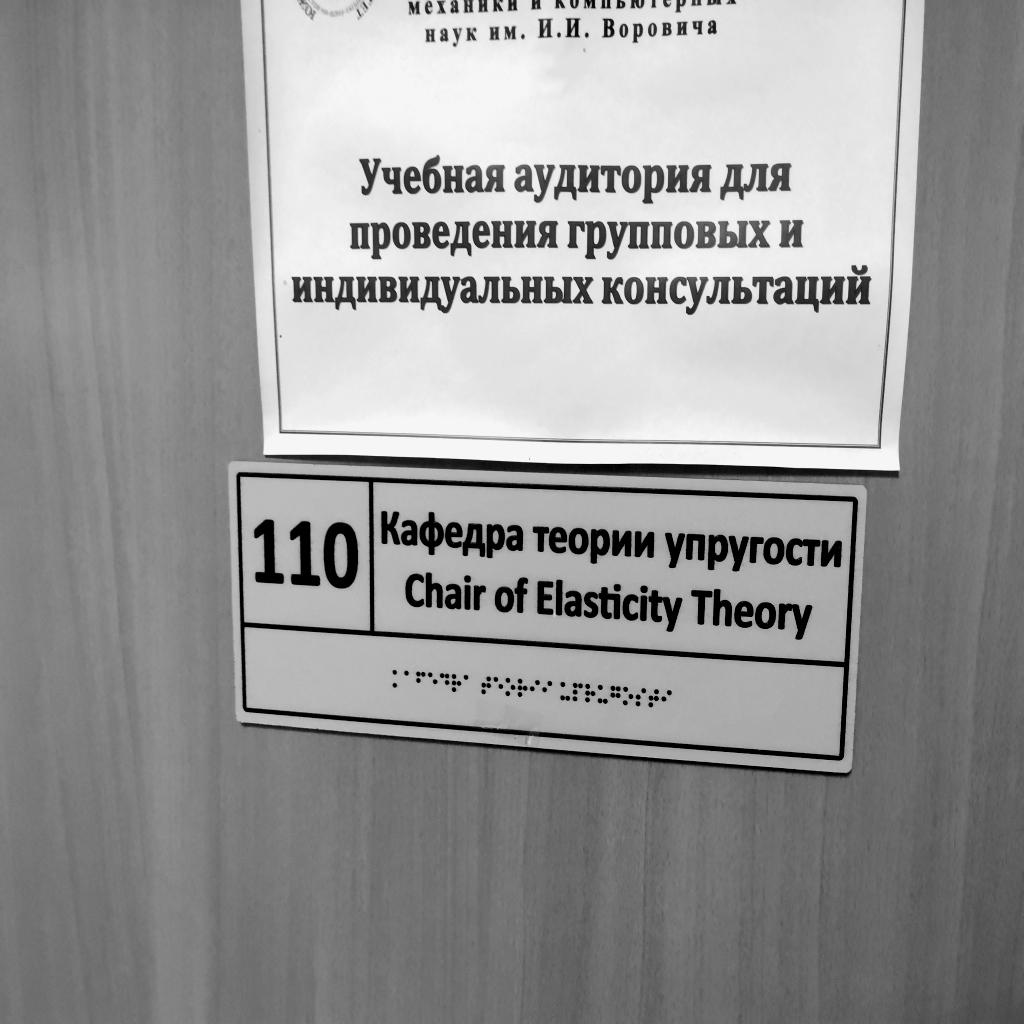_y: (597, 685, 608, 705), (560, 681, 570, 701)
a: (463, 674, 474, 694), (404, 670, 414, 689)
d: (439, 672, 450, 694)
e: (427, 671, 438, 692), (494, 677, 504, 697)
f: (416, 671, 426, 690)
g: (610, 685, 621, 706)
i: (661, 689, 672, 709), (542, 681, 553, 700), (530, 679, 540, 699)
k: (392, 670, 403, 689)
o: (505, 677, 516, 697), (623, 686, 634, 706)
p: (573, 682, 584, 703)
r: (451, 673, 462, 693), (517, 678, 528, 698), (585, 683, 596, 703)
s: (636, 688, 647, 707)
t: (648, 689, 659, 708), (481, 676, 491, 695)
